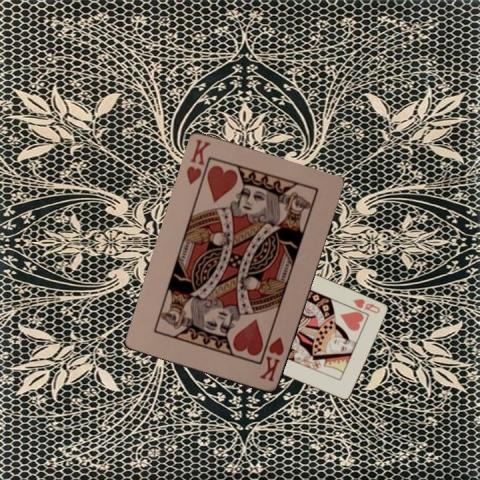Kh: (183, 137, 213, 186), (257, 334, 286, 383)
Qh: (350, 296, 382, 315)
